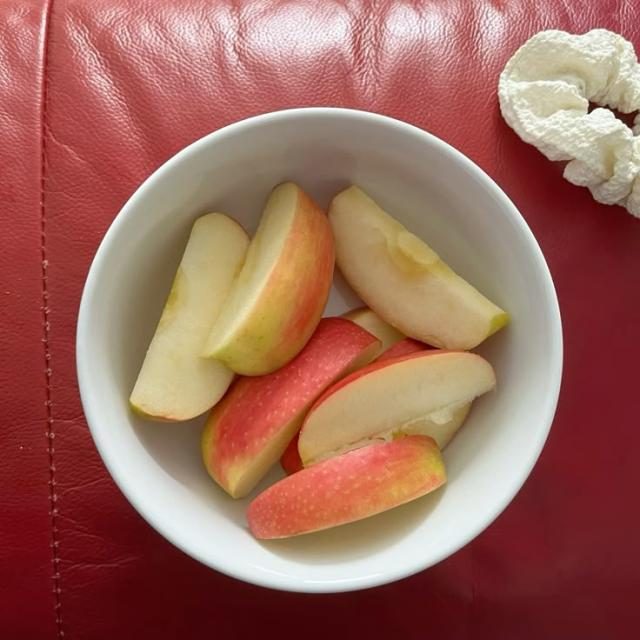apple: (202, 318, 379, 497), (328, 186, 508, 349), (203, 183, 334, 375), (130, 214, 249, 421), (299, 350, 496, 466), (247, 436, 446, 539), (343, 308, 433, 362), (405, 402, 471, 450), (343, 307, 405, 351), (374, 339, 435, 362), (280, 432, 304, 474)
